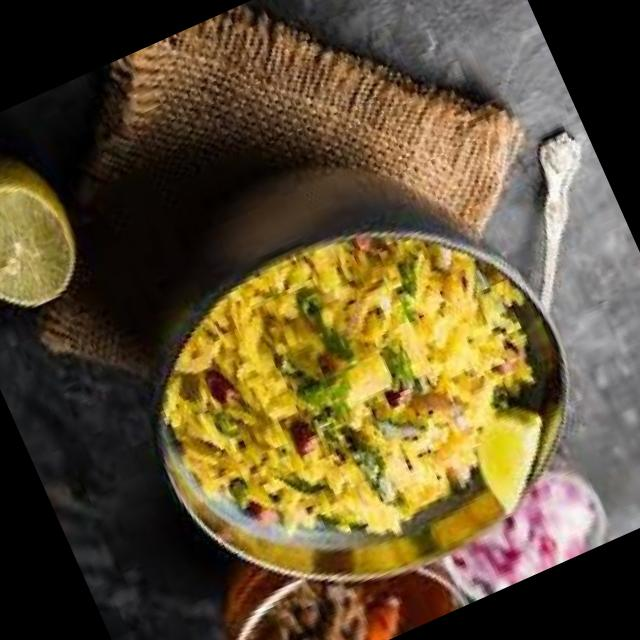poha: (123, 178, 592, 604)
